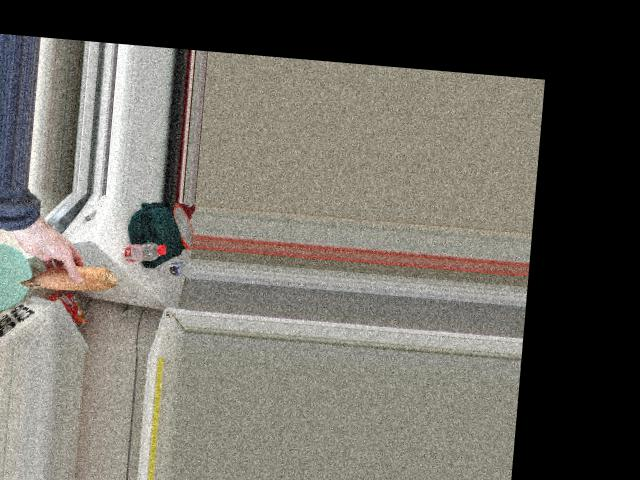sweet_potato: (22, 257, 120, 295)
